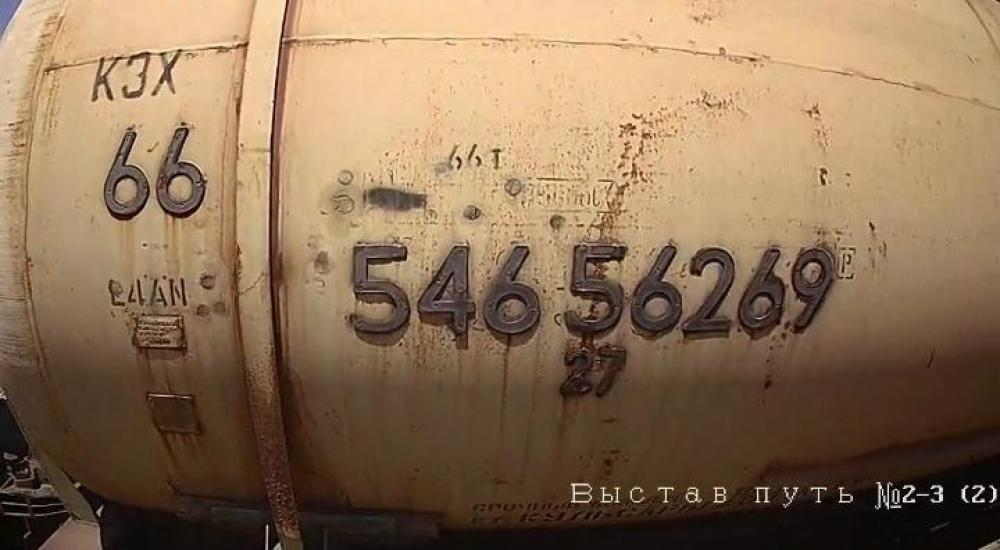Wagon-number: (344, 237, 842, 345)
